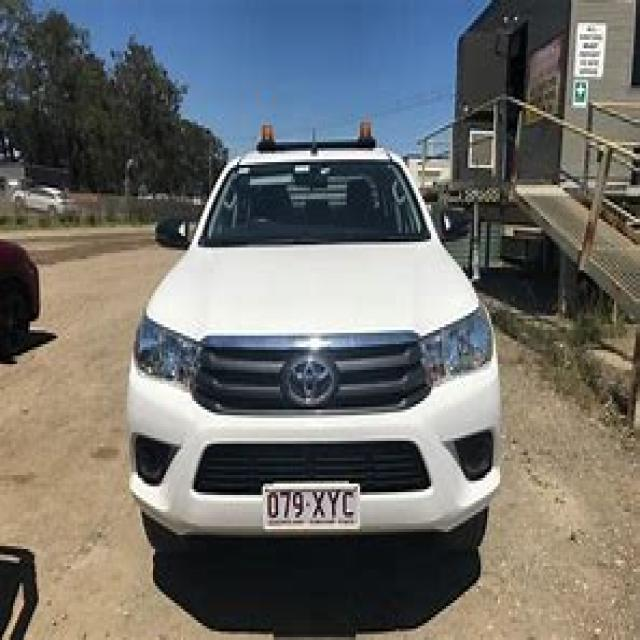light_vehicle: (121, 111, 515, 569)
